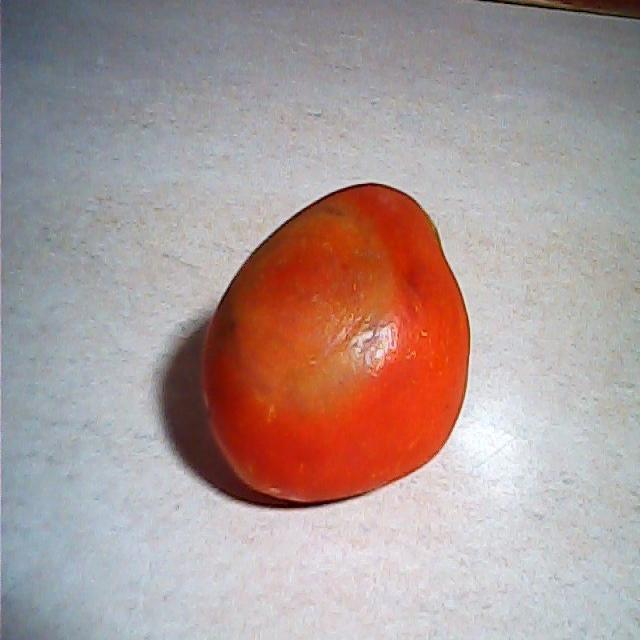maduro: (196, 182, 472, 510)
